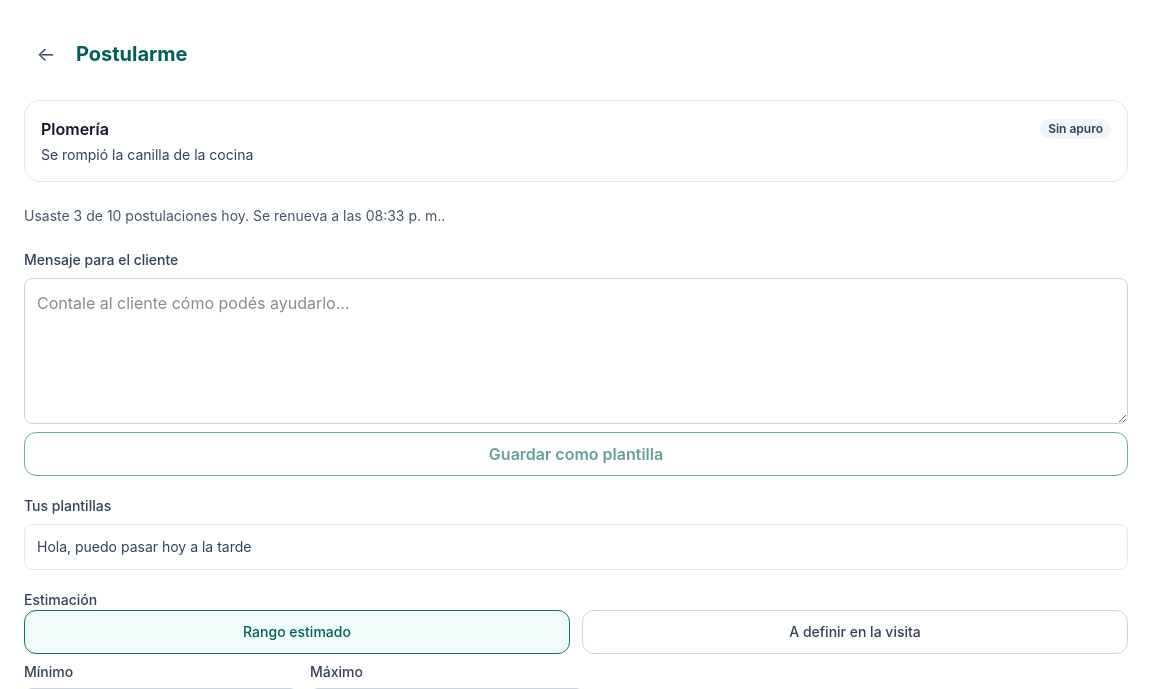
Scenario: PostularmePage › rellena el mensaje al elegir una plantilla cuando el campo esta vacio
The image size is (1152, 689).
What coordinates should you click on to do the following:
click the button "Hola, puedo pasar hoy a la tarde"
I would click on:
 (144, 546)
Its box is [24,524,1128,570].
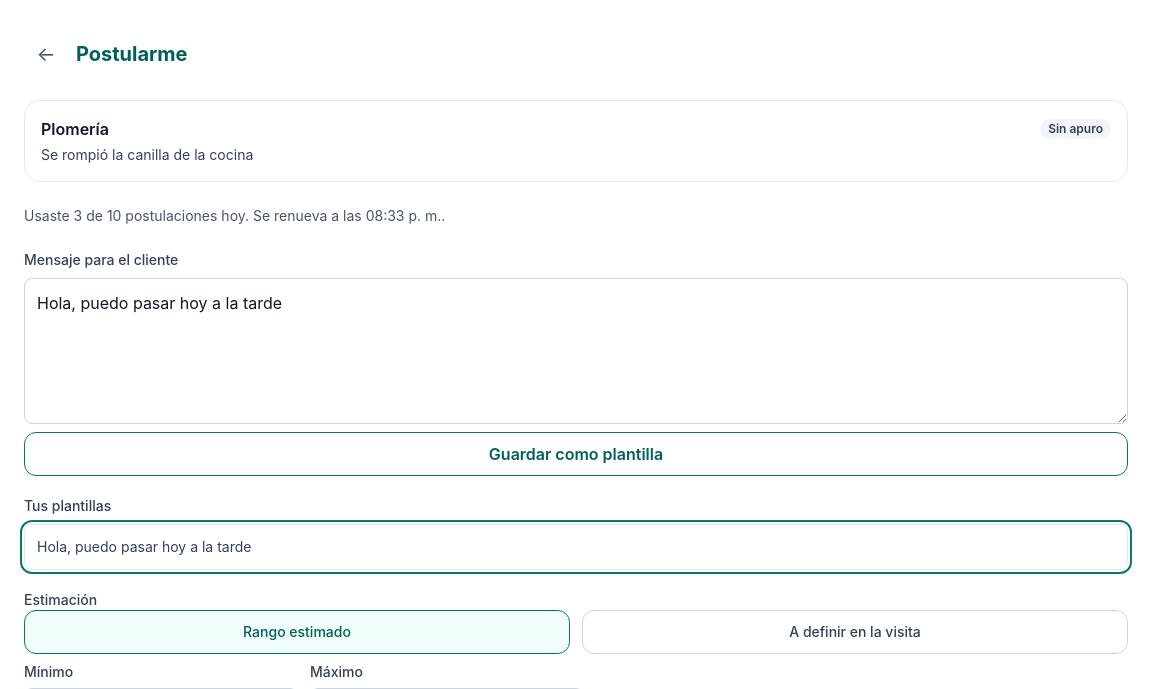
Expected: the text box labelled "Mensaje para el cliente" holds "Hola, puedo pasar hoy a la tarde", [24,278,1128,424]
